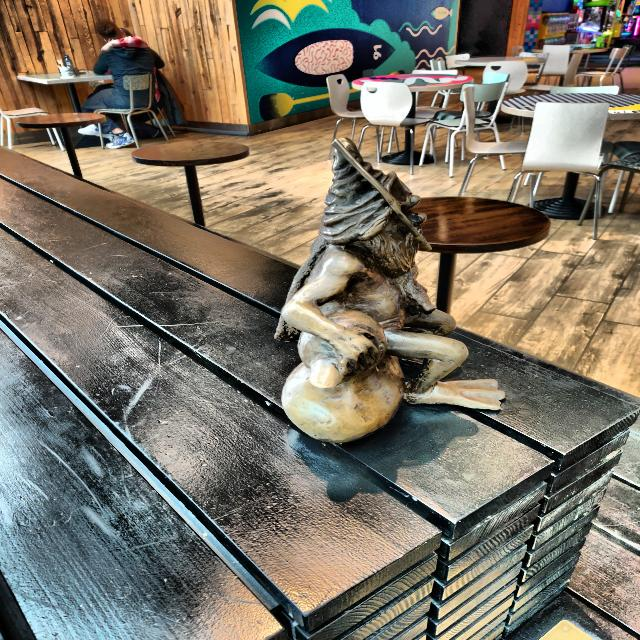Babelek_Chlaptus: (275, 140, 505, 442)
